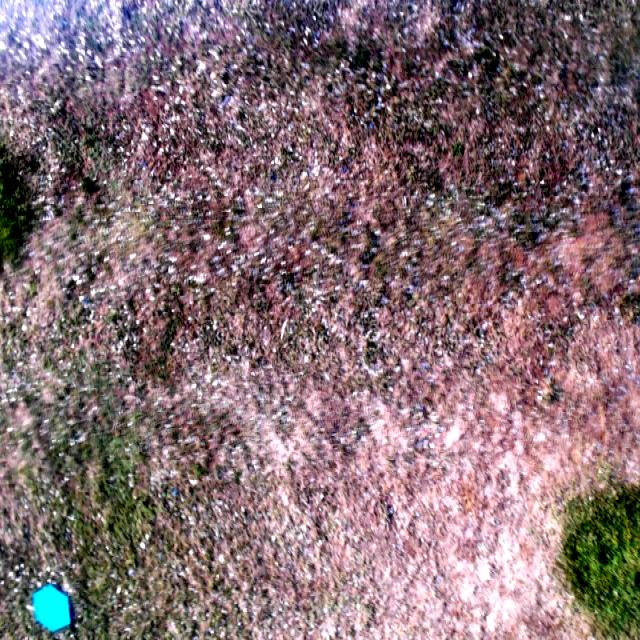blue_hexagon: (32, 581, 72, 632)
